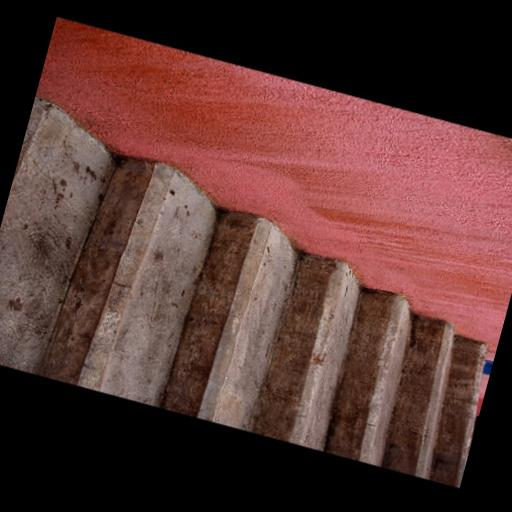stairs: (0, 98, 483, 488)
